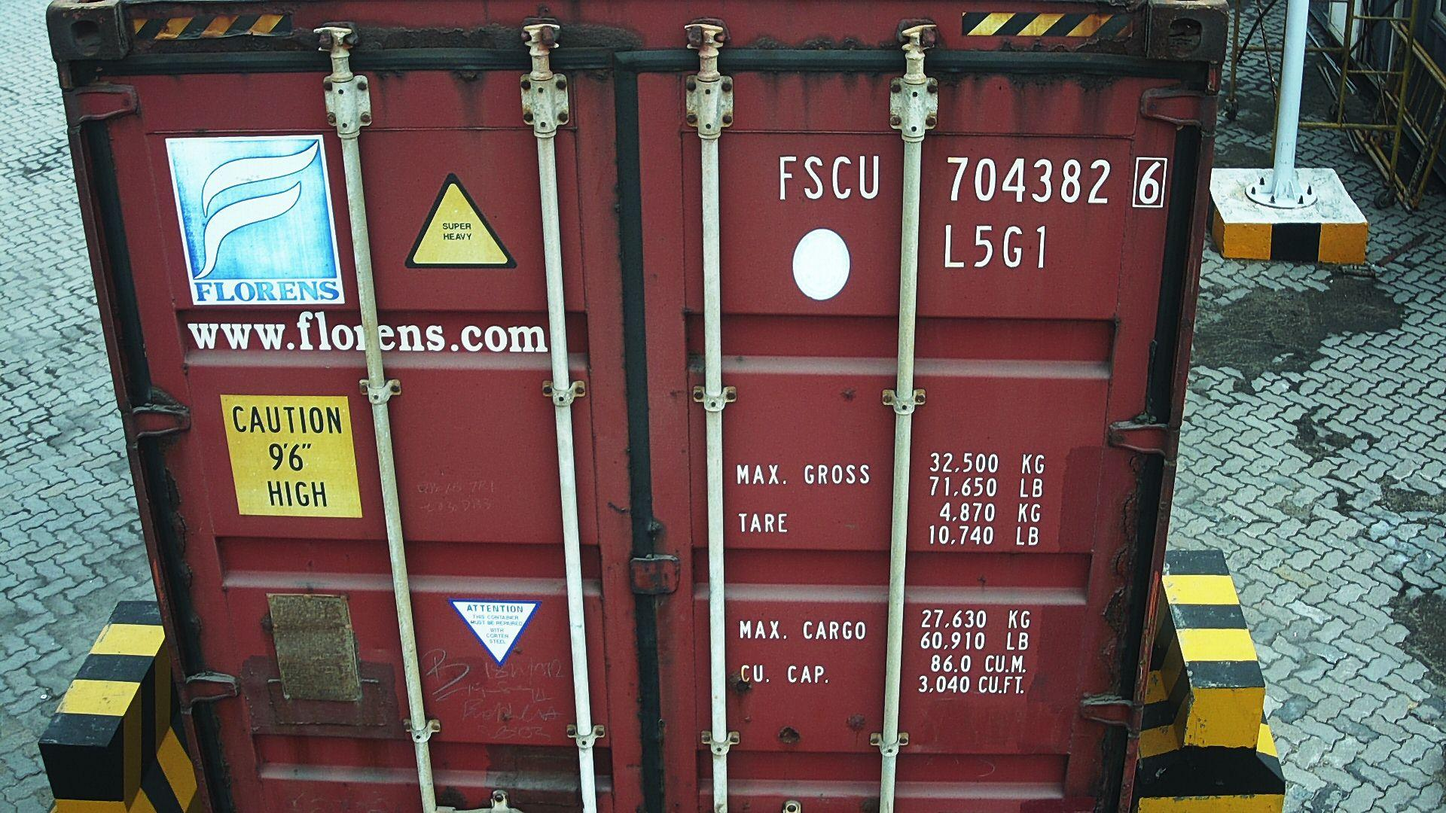container-numbers: (773, 149, 1171, 211), (935, 221, 1053, 273)
